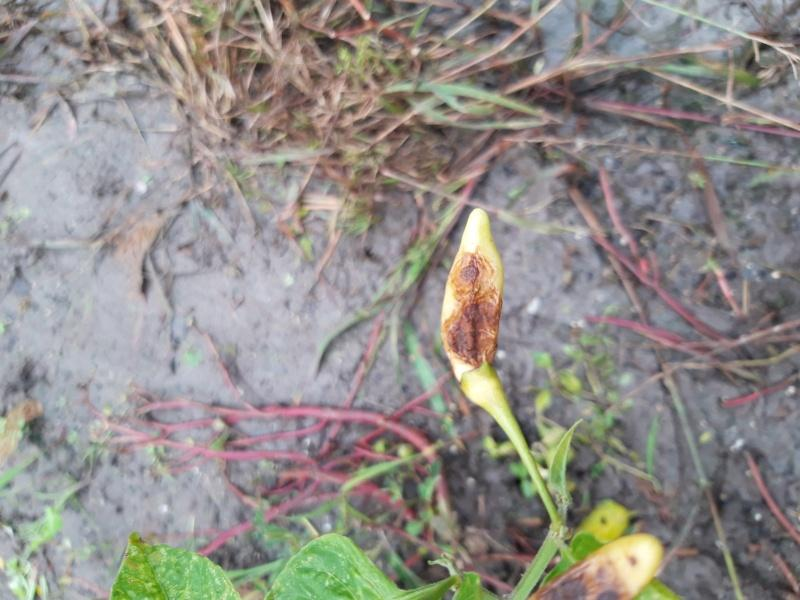antraknosa: (440, 208, 504, 386)
